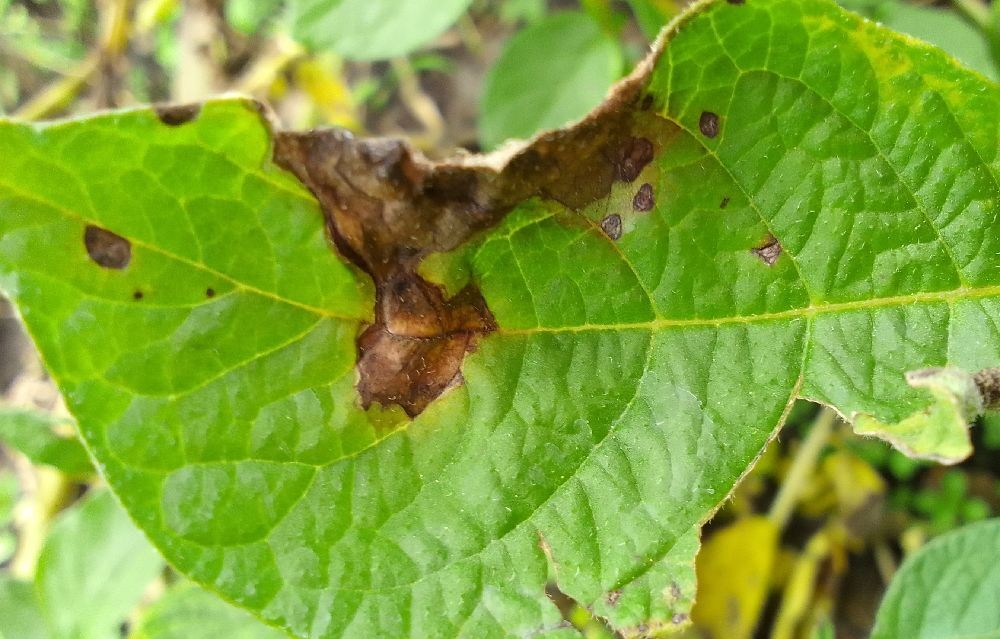late_blight: (162, 0, 737, 442), (639, 393, 960, 639), (42, 0, 218, 144), (897, 412, 1000, 526)
